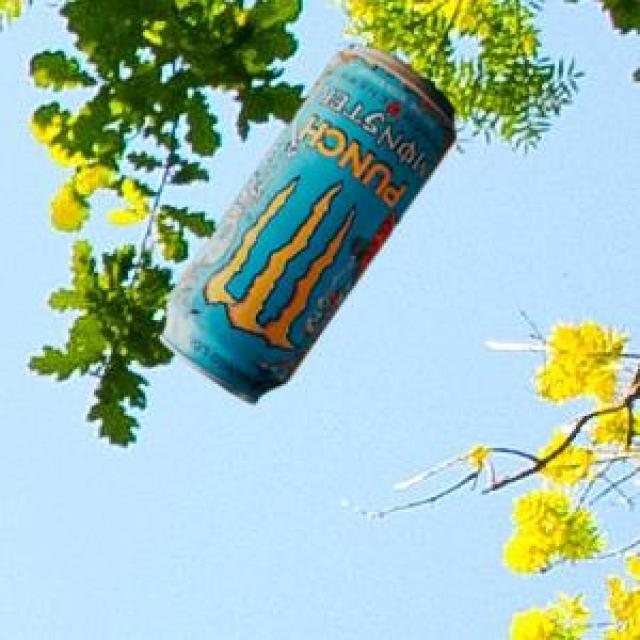logam: (157, 46, 453, 400)
